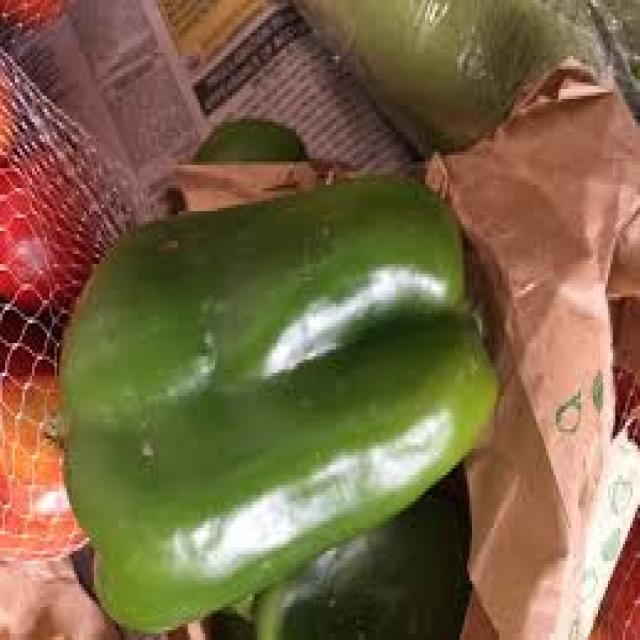organic waste: (52, 172, 497, 630), (200, 452, 470, 637), (296, 0, 598, 148), (0, 132, 128, 320), (0, 307, 91, 561), (180, 112, 309, 162), (0, 0, 66, 36), (0, 55, 12, 158)
